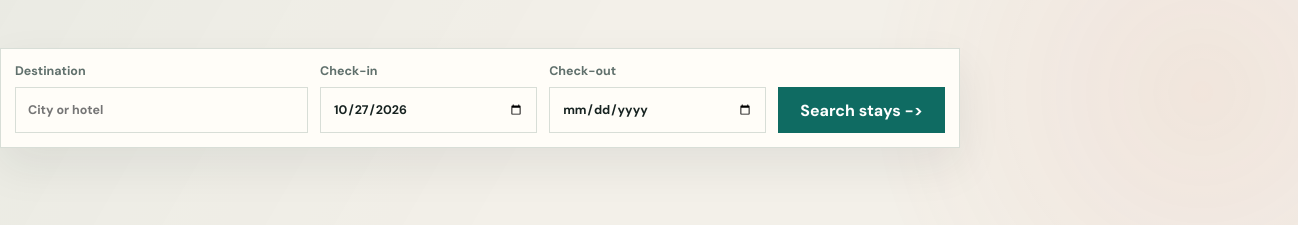
SearchForm › rejects a destination that is not a hotel name
Type "Paris" into the dropdown at (162, 110), box [15,87,308,133]
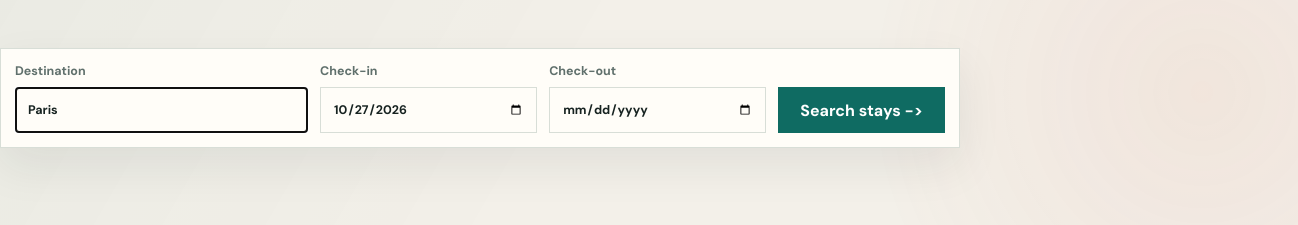
Click the button "Search stays ->" at (862, 110), box [778,87,945,133]
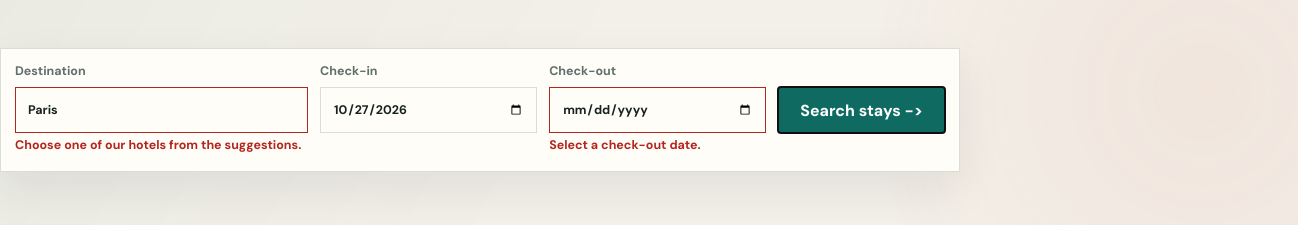
Now the text "Choose one of our hotels from the suggestions." is shown, box [15,137,301,153]
